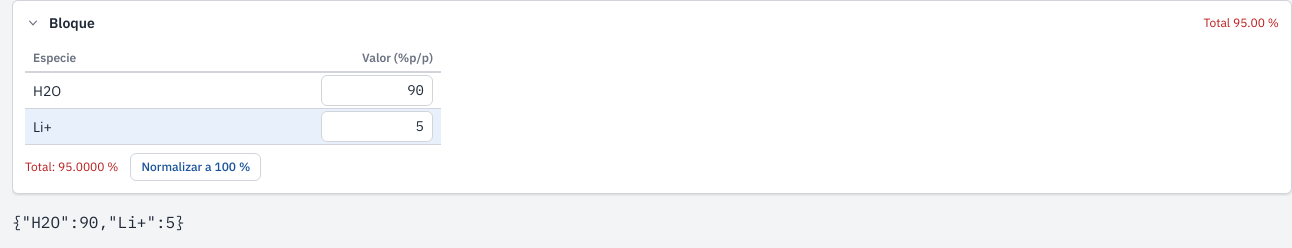
Scenario: composición: una columna para la especie y otra para el valor › el total va en el resumen (visible cerrado) y Normalizar lleva a 100
This screenshot has width=1292, height=248.
Expected: the element with test id "kv-summary" reads "Total 95.00 %", left=1191, top=15, right=1279, bottom=31
Step 1. Click the button with test id "kv-normalize" → (196, 167), box left=130, top=153, right=261, bottom=181
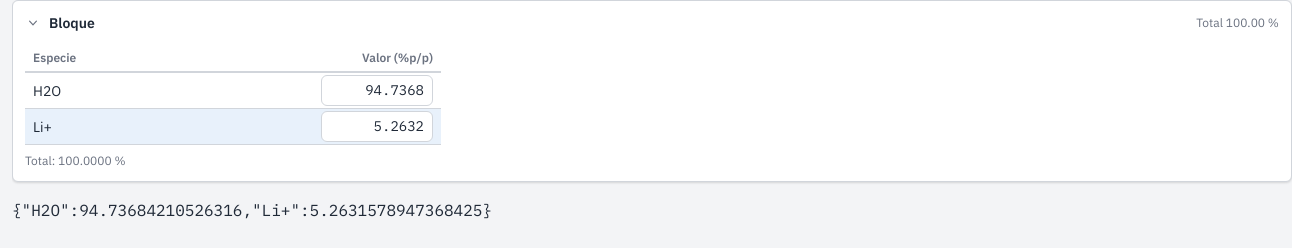
Expected: the element with test id "kv-summary" reads "Total 100.00 %", left=1184, top=15, right=1279, bottom=31
